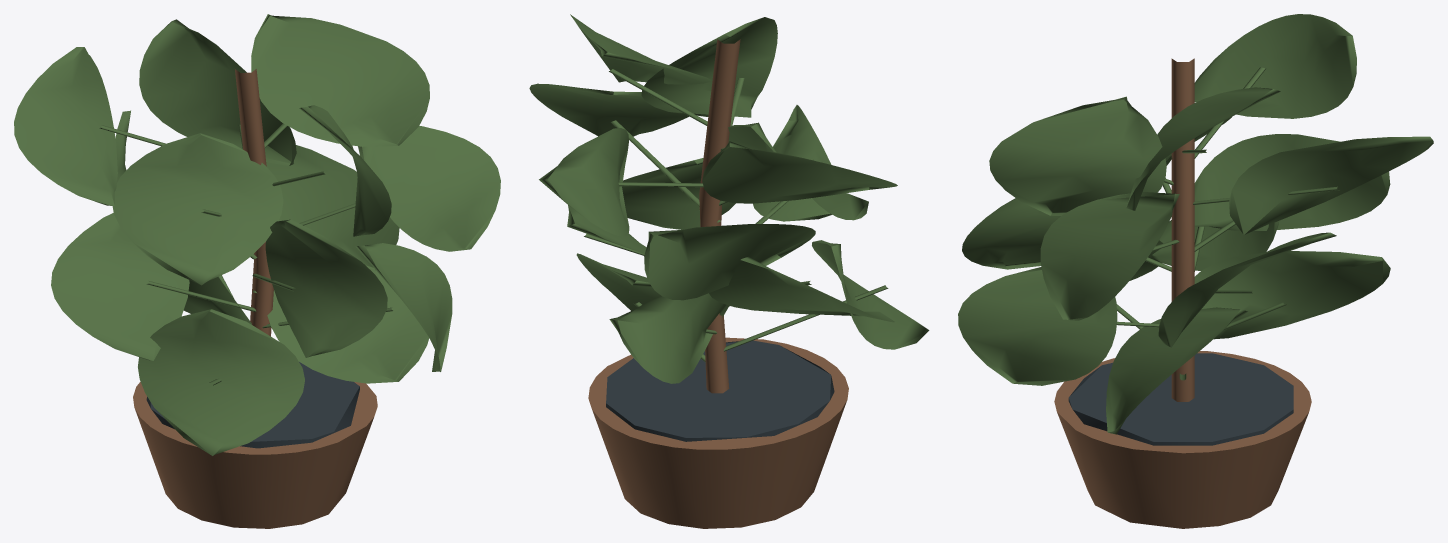
Rendered from plant-14-0.lod.glb.
3 renders of one model, left to right at view 1: azimuth 30°, elevation 25°; view 2: azimuth 150°, elevation 25°; view 3: azimuth 270°, elevation 25°, orthographic. The views are drawn at different scales.
Visible parts, largest first — view 1: part (×17); view 2: part (×17); view 3: part (×15).
Boxes of the visible parts, x1,y1,x2,y2 form: part (×17): [14, 14, 500, 528]; part (×17): [529, 14, 929, 528]; part (×15): [958, 14, 1433, 528].
Bounding box in the file's own units: 1 × 1 × 1.
